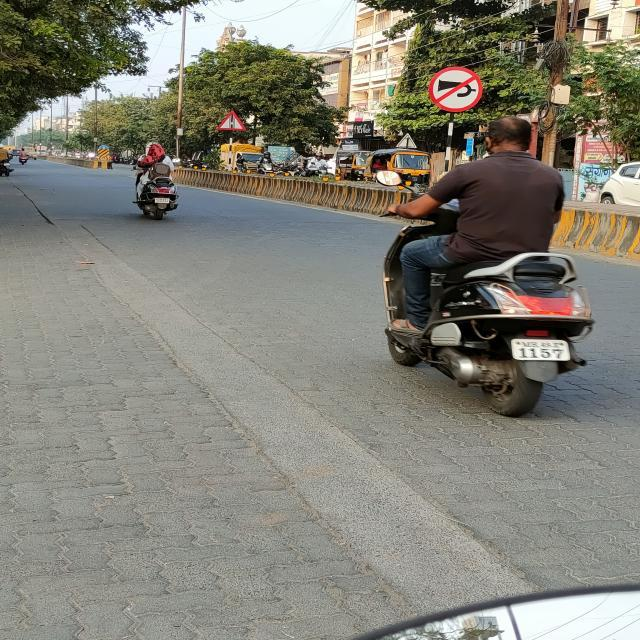horn prohibited: (428, 66, 483, 112)
